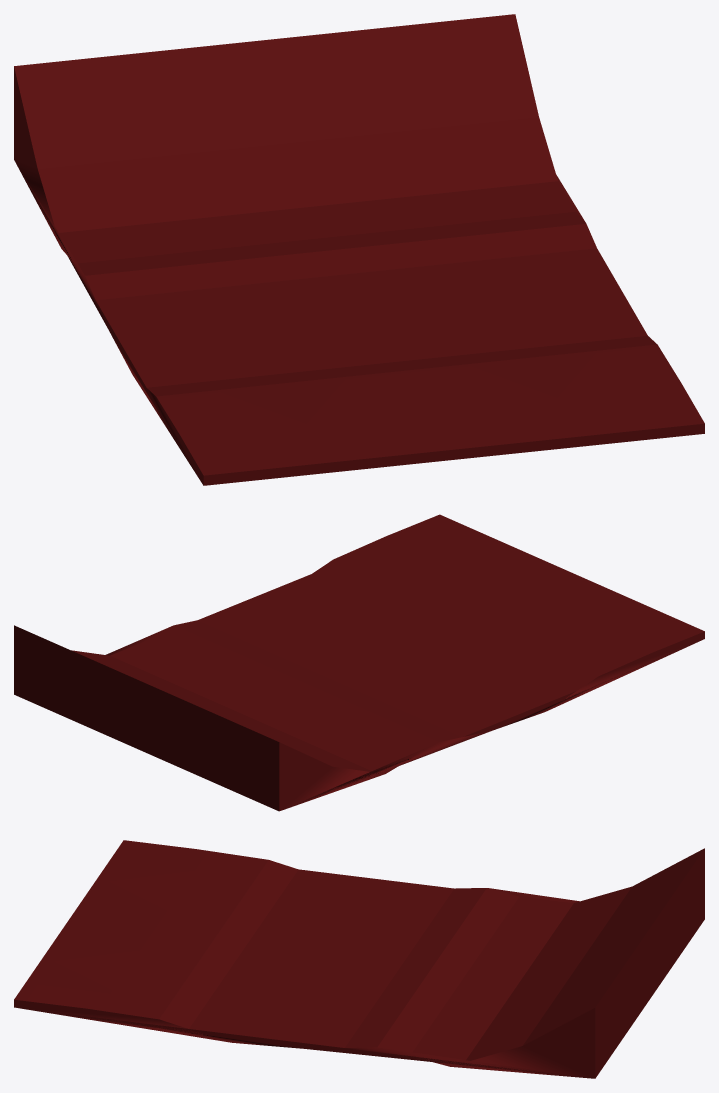
File: Ramp_Right__2_.fbx
3 views of the same model, one above another, from view 1: azimuth 30°, elevation 25°; view 2: azimuth 150°, elevation 25°; view 3: azimuth 270°, elevation 25° (orthographic). The views are drawn at different scales.
Parts seen in each view (by area): view 1: Ramp_Right__2_; view 2: Ramp_Right__2_; view 3: Ramp_Right__2_.
Part boxes in pixels (x1,y1,x2,y2): Ramp_Right__2_: (14, 14, 704, 485); Ramp_Right__2_: (14, 514, 704, 811); Ramp_Right__2_: (14, 840, 704, 1078).
Bounding box in the file's own units: 211 × 33.91 × 266.
